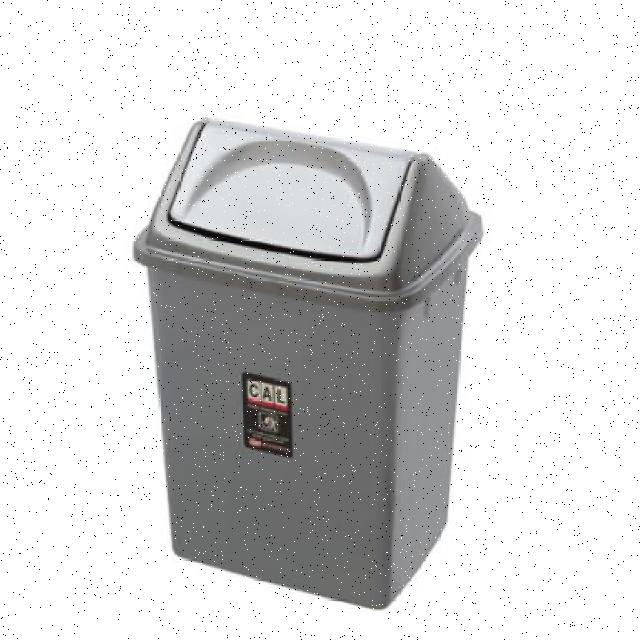garbage container: (126, 108, 497, 630)
